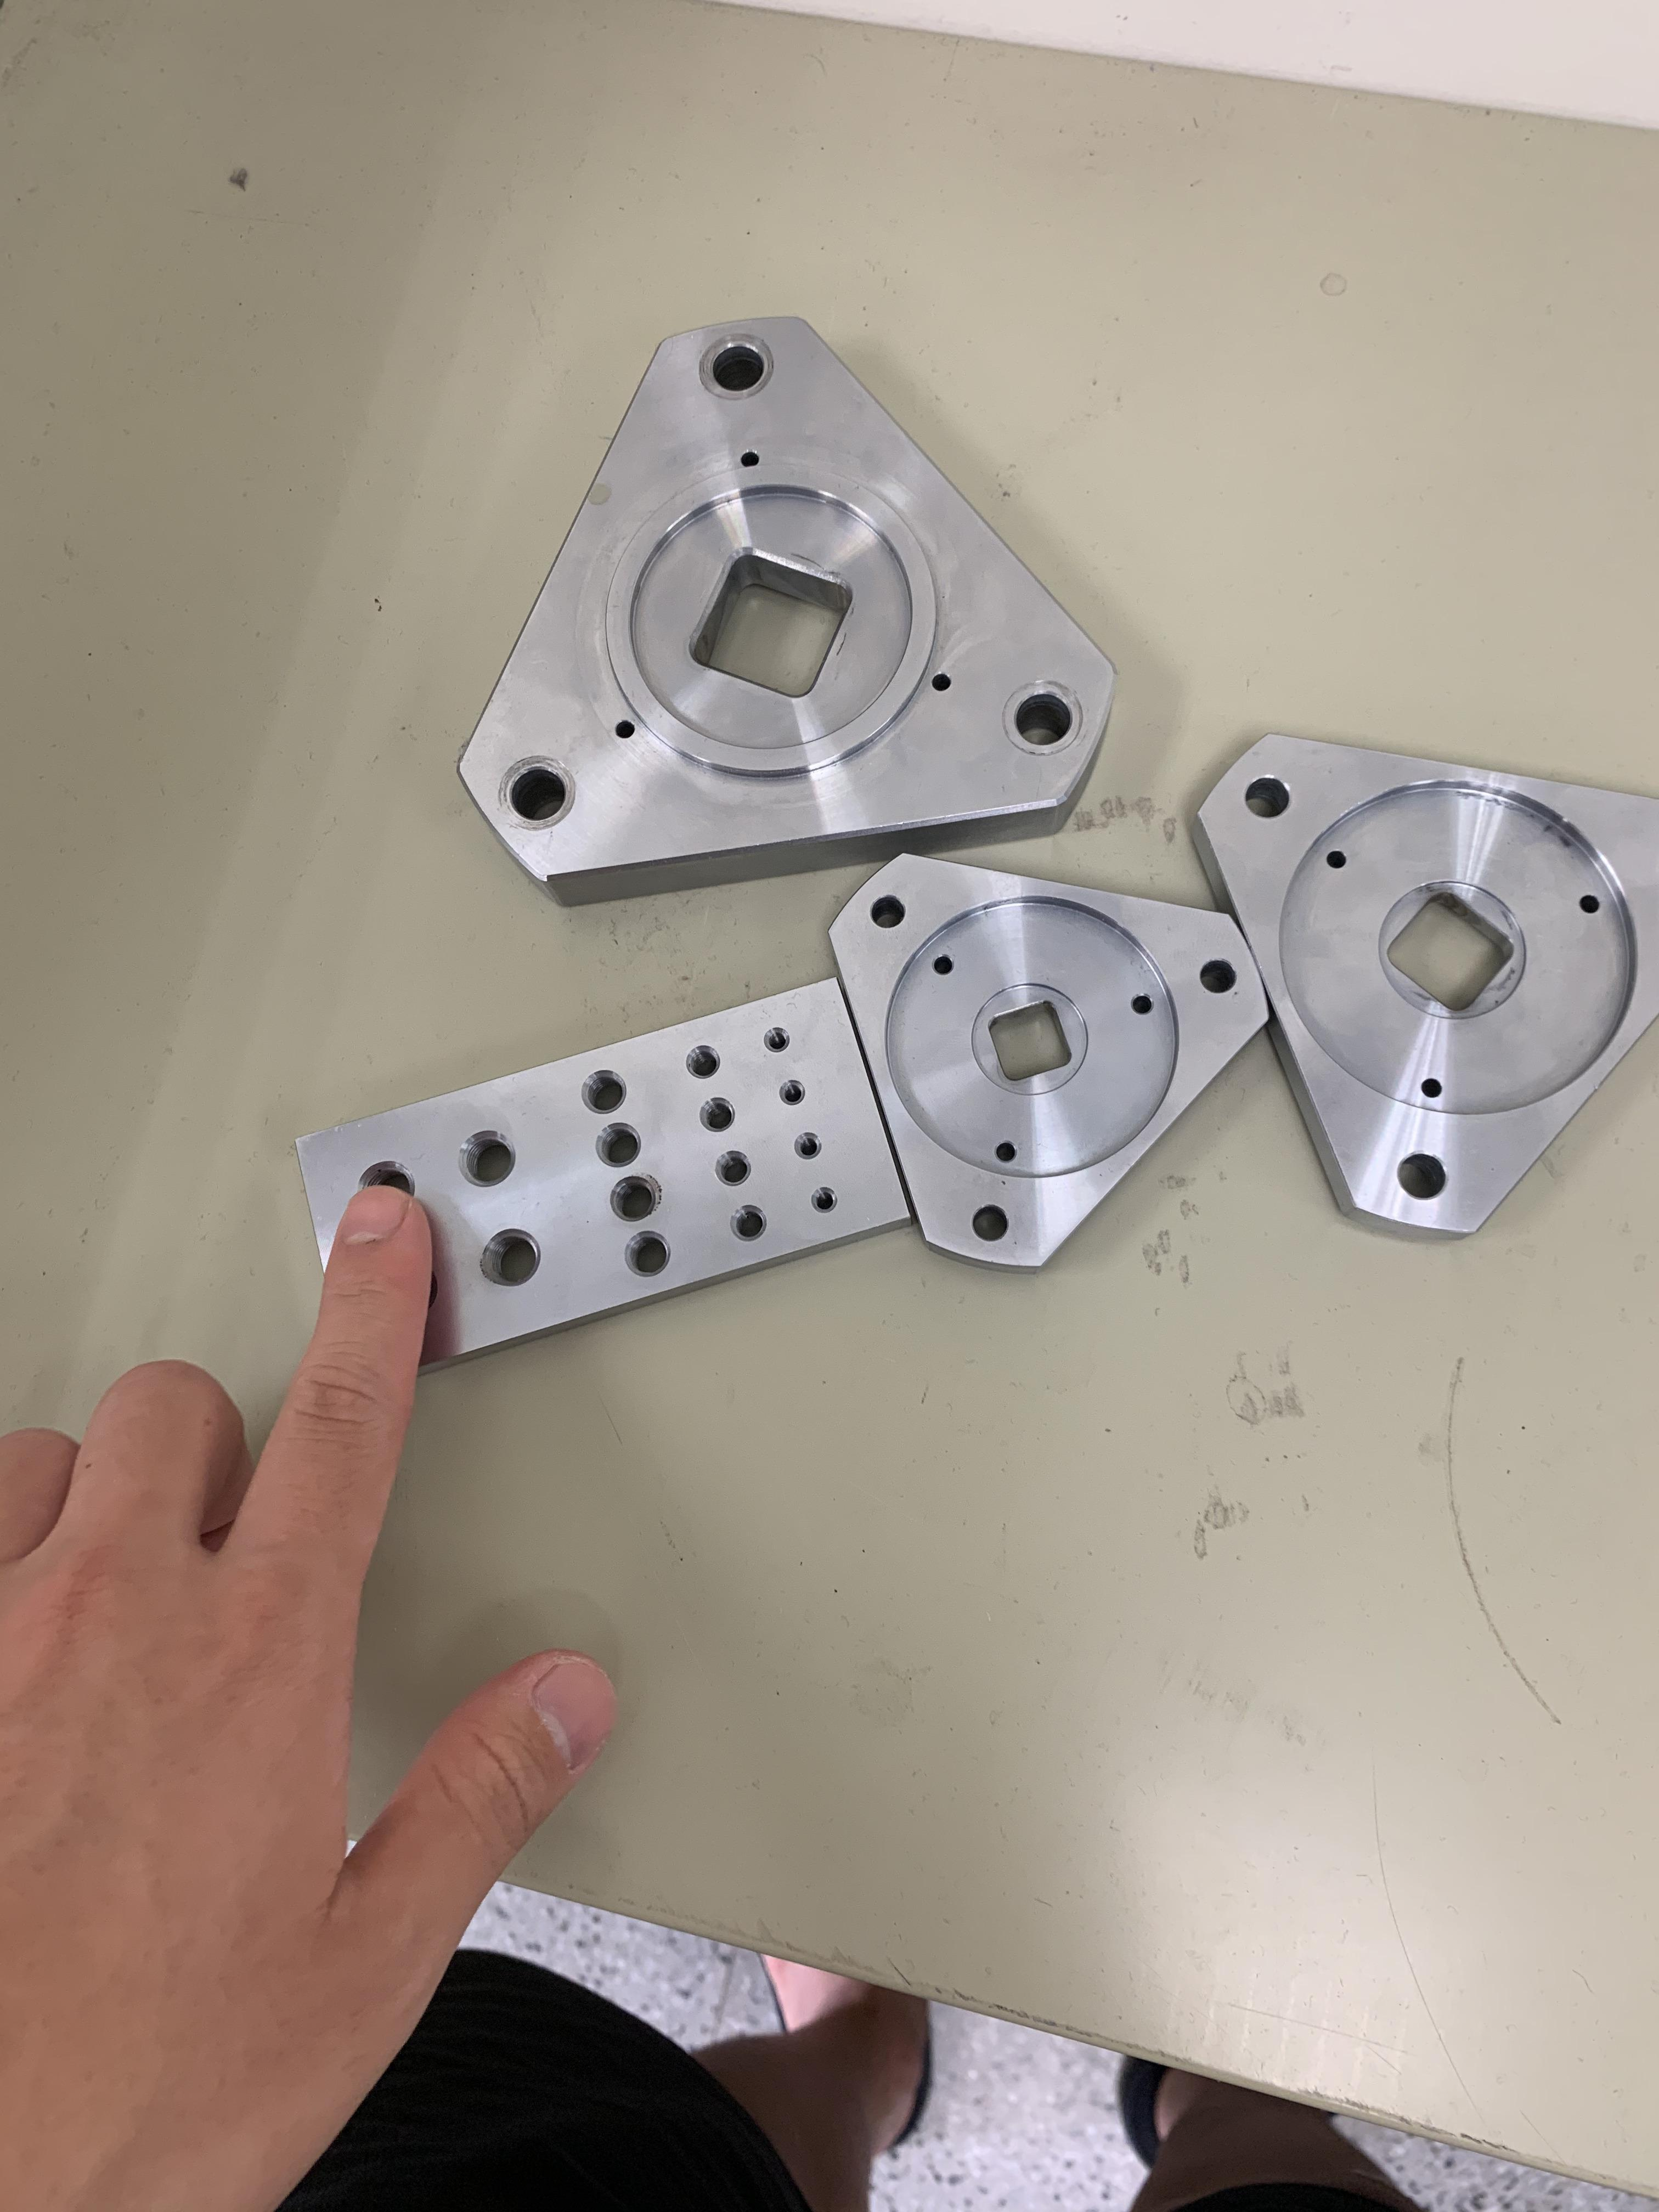hole: (995, 662, 1087, 761), (490, 751, 596, 833), (690, 326, 779, 404), (469, 1221, 552, 1301), (450, 1111, 525, 1193), (1380, 1148, 1459, 1205), (615, 1226, 678, 1289), (1239, 772, 1297, 829), (580, 1061, 634, 1120), (1188, 951, 1248, 1005), (962, 1191, 1016, 1251), (584, 1123, 648, 1172), (601, 1176, 662, 1223), (864, 888, 913, 937), (720, 1198, 772, 1244), (688, 1092, 741, 1136), (678, 1040, 727, 1082), (708, 1148, 755, 1186), (760, 1017, 791, 1061), (1124, 982, 1155, 1026), (772, 1075, 809, 1111), (789, 1127, 824, 1165), (1415, 1068, 1445, 1109), (1570, 885, 1601, 923), (809, 1184, 842, 1219), (988, 1130, 1021, 1165), (1323, 841, 1352, 878), (925, 948, 957, 981)
